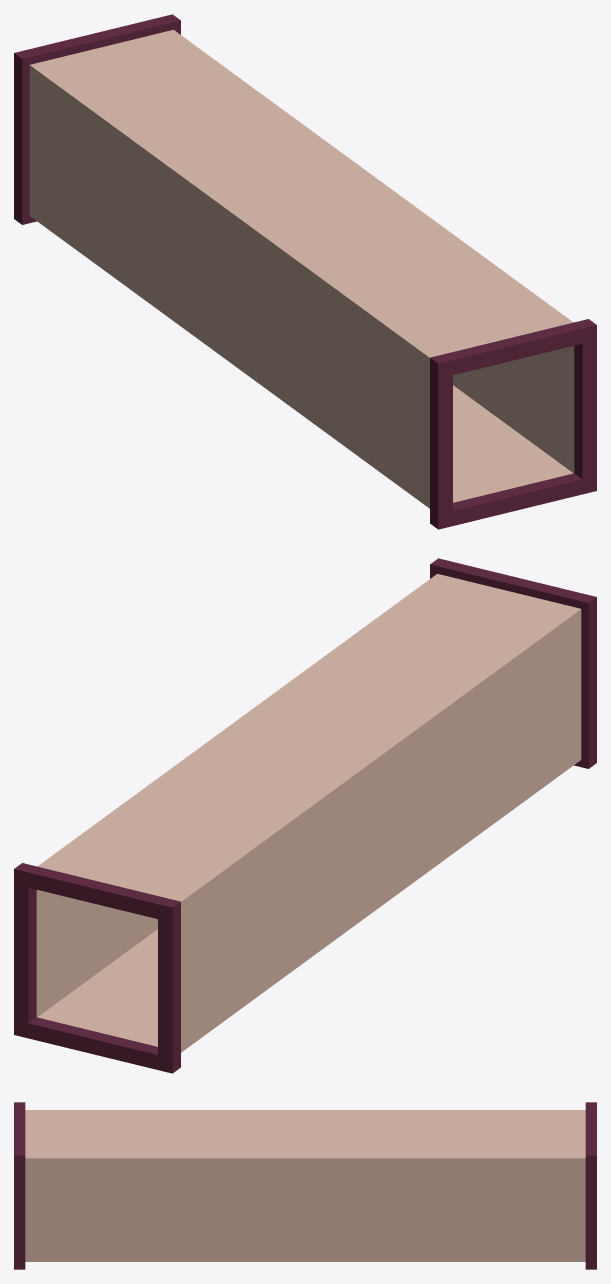
File: en_TransitionRoom.FBX
3 renders of one model, top to bottom at view 1: azimuth 30°, elevation 25°; view 2: azimuth 150°, elevation 25°; view 3: azimuth 270°, elevation 25°, orthographic. The views are drawn at different scales.
Visible parts, largest first — view 1: en_LoadingTunnel; view 2: en_LoadingTunnel; view 3: en_LoadingTunnel.
Part boxes in pixels (x1,y1,x2,y2): en_LoadingTunnel: (14, 14, 596, 529); en_LoadingTunnel: (14, 558, 596, 1073); en_LoadingTunnel: (14, 1102, 596, 1269).
Size of the model in its own units: 220 by 220 by 1020.
Materials: 1 (1 with a texture image).
